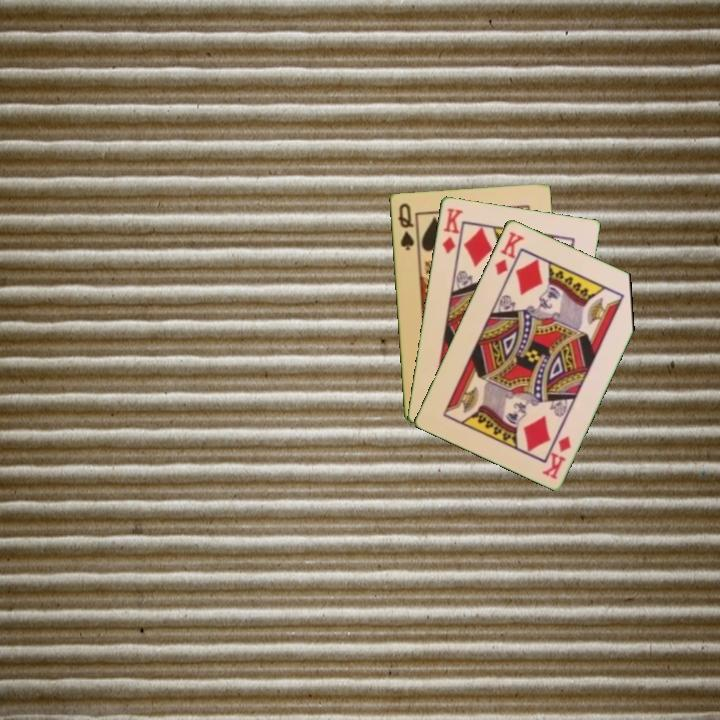Kd: (491, 227, 527, 278), (539, 432, 574, 482), (439, 204, 465, 257)
Qs: (394, 199, 417, 253)
